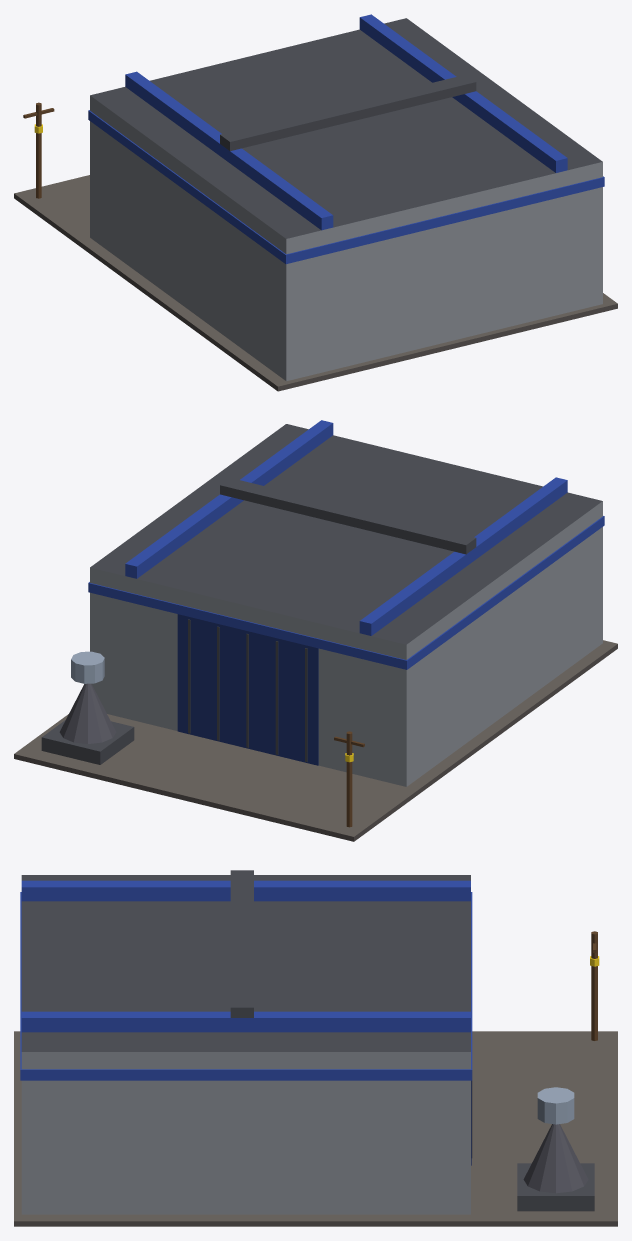
The model's file is assembly_plant.glb.
3 views of the same model, one above another, from view 1: azimuth 30°, elevation 25°; view 2: azimuth 150°, elevation 25°; view 3: azimuth 270°, elevation 25° (orthographic). The views are drawn at different scales.
Visible parts, largest first — view 1: assembly_plant; view 2: assembly_plant; view 3: assembly_plant.
Boxes of the visible parts, x1,y1,x2,y2 form: assembly_plant: [14, 14, 617, 391]; assembly_plant: [14, 420, 617, 841]; assembly_plant: [14, 870, 617, 1226].
Bounding box in the file's own units: 5.8 × 2.75 × 7.8.
